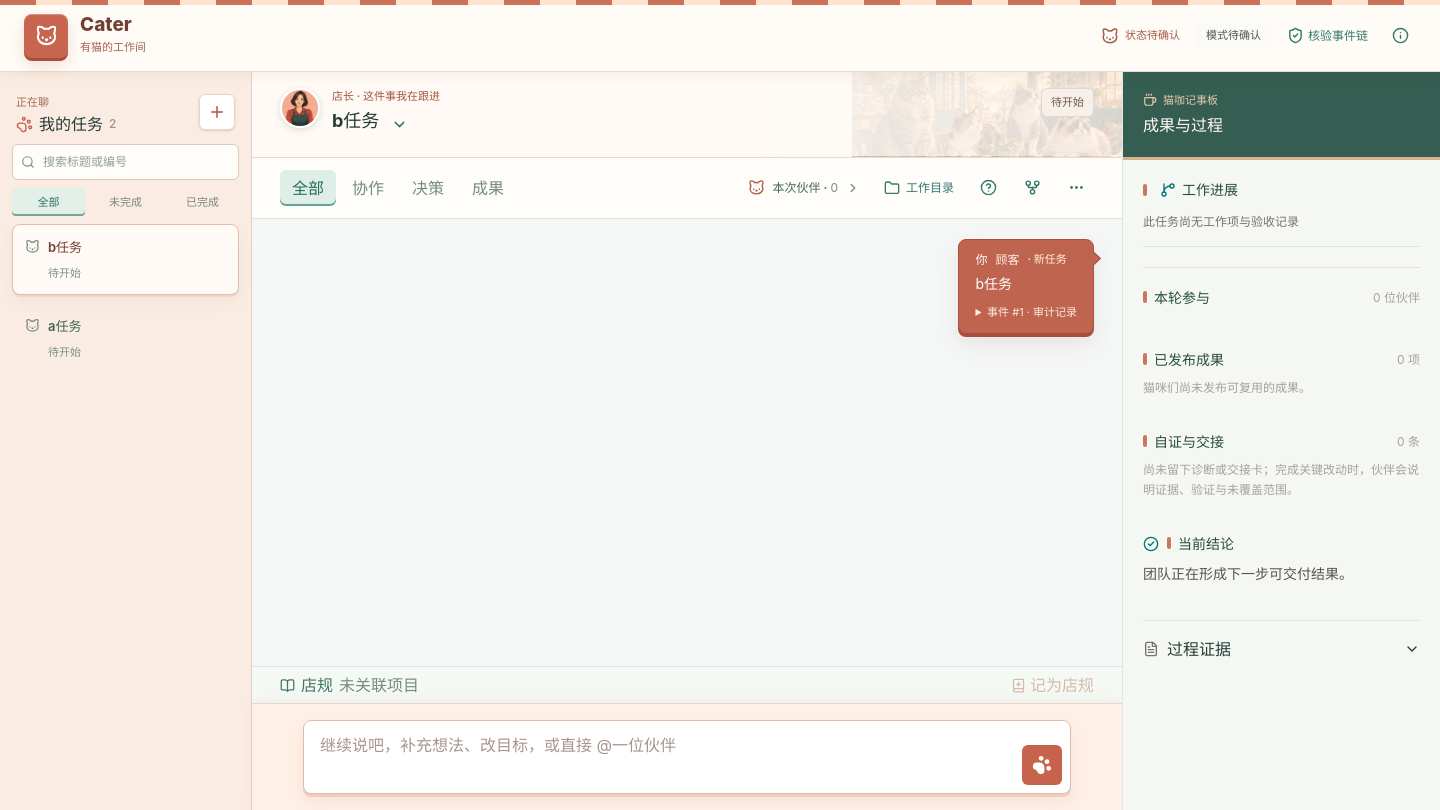
Scenario: 服务端已新建但返回500时保留原请求，手动重试取得同一任务且不自动重发
Click the button named "新建任务" at (217, 112), box x1=199 y1=94 x2=235 y2=130
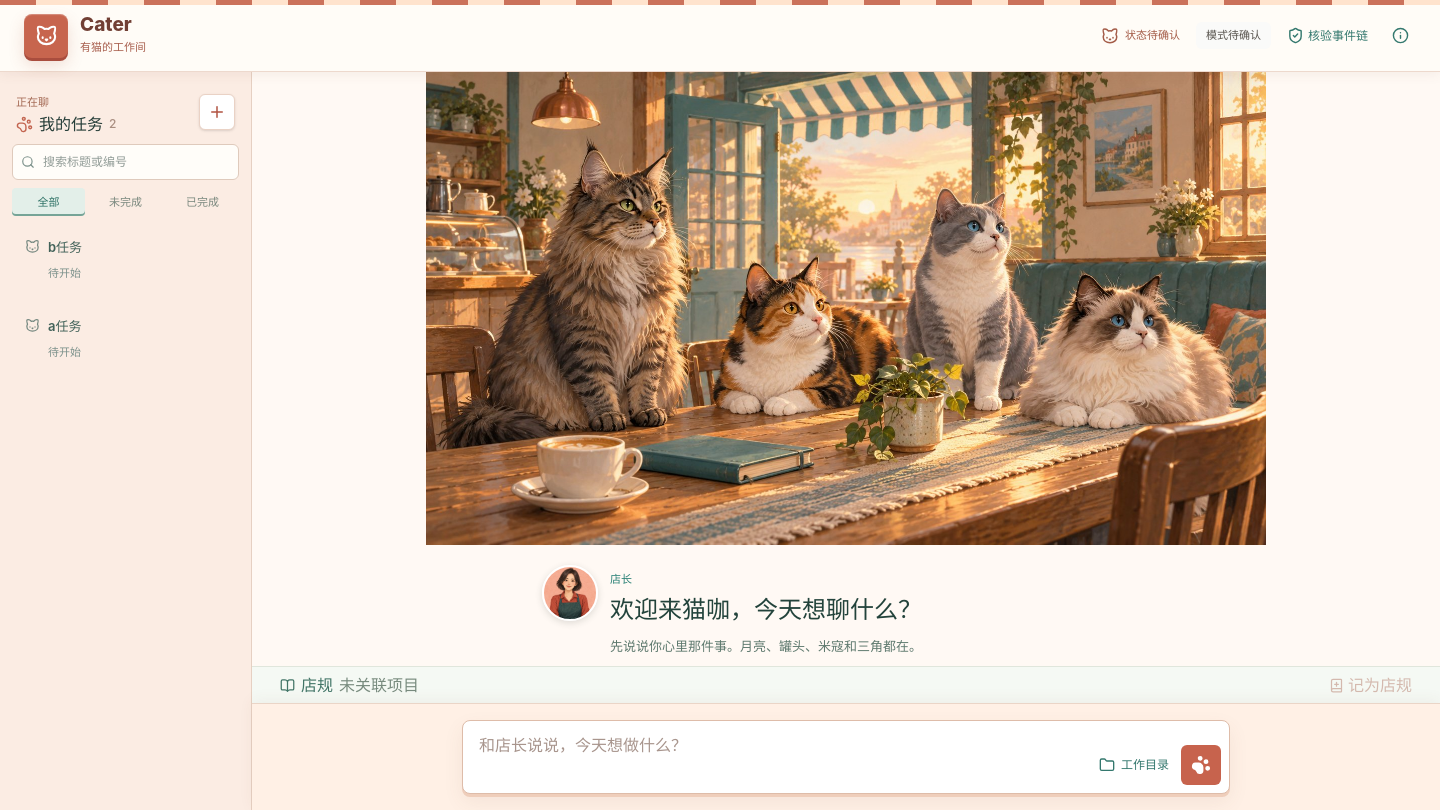
Type "可能已经创建的任务" into the text box named "发起任务对话" at (777, 757), box x1=471 y1=729 x2=1083 y2=785
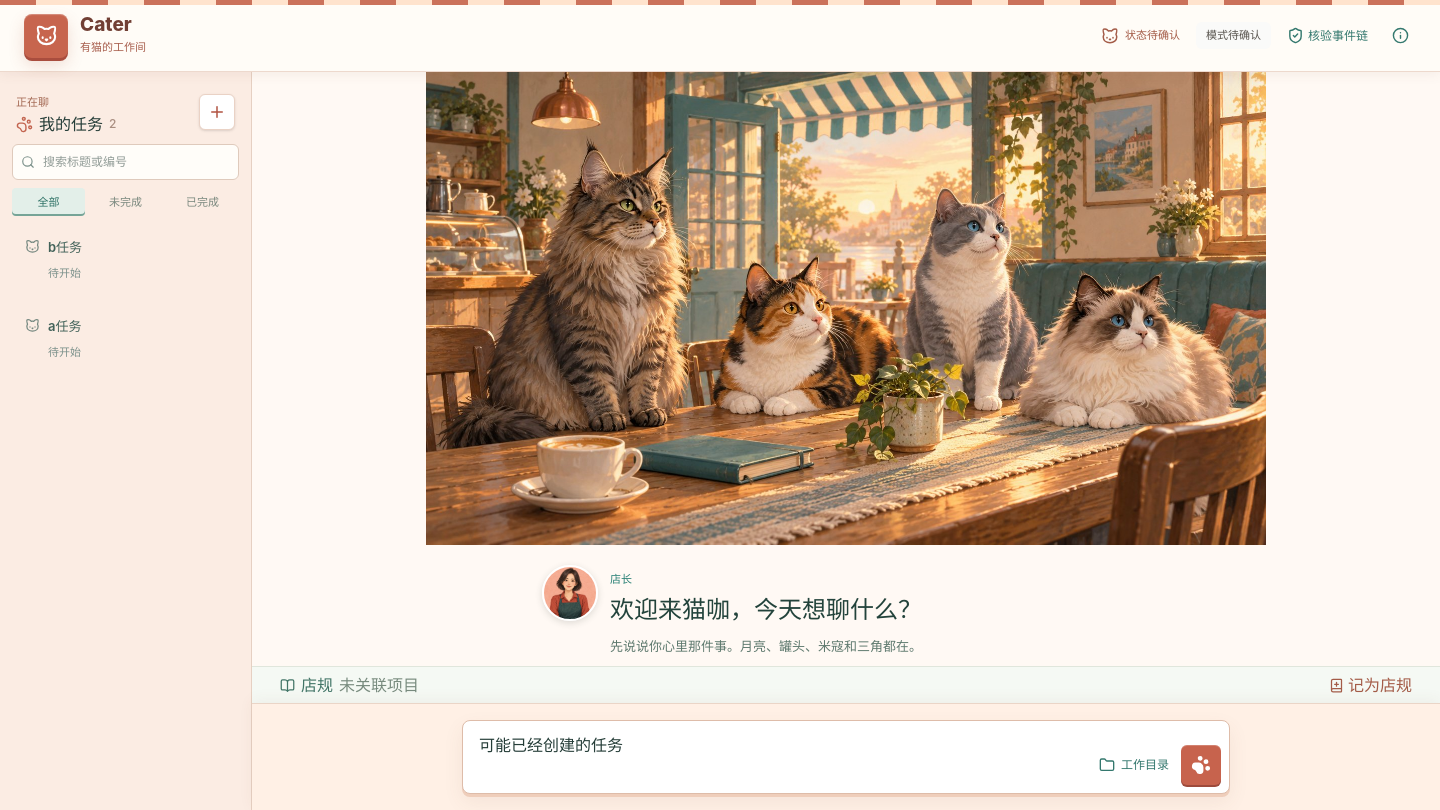
Click the button named "发送新任务" at (1201, 765), box x1=1181 y1=745 x2=1221 y2=785
Wait 30000 ms
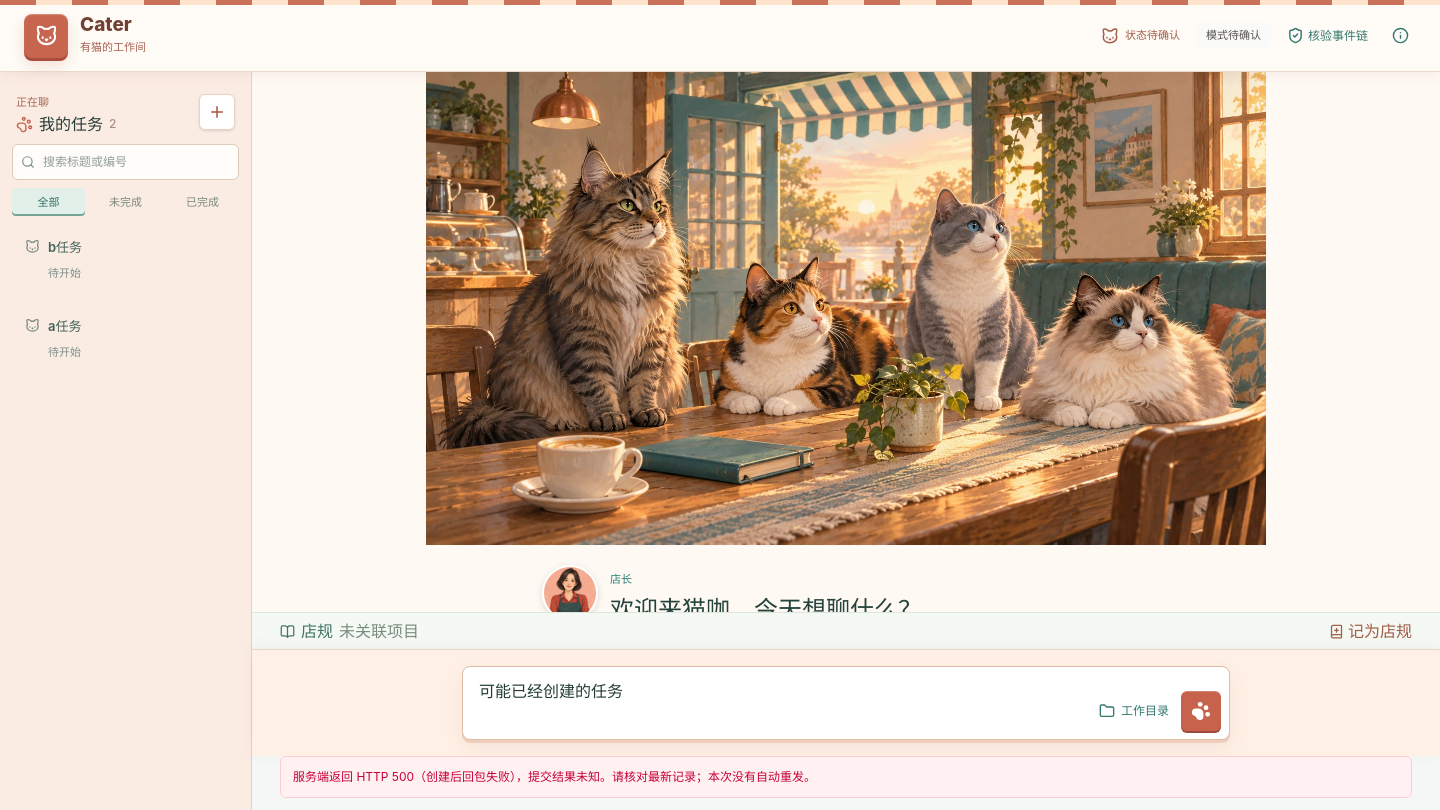
Result: the message shows "提交结果未知" at x1=293 y1=769 x2=816 y2=784
Click the button named "发送新任务" at (1201, 711), box x1=1181 y1=691 x2=1221 y2=731
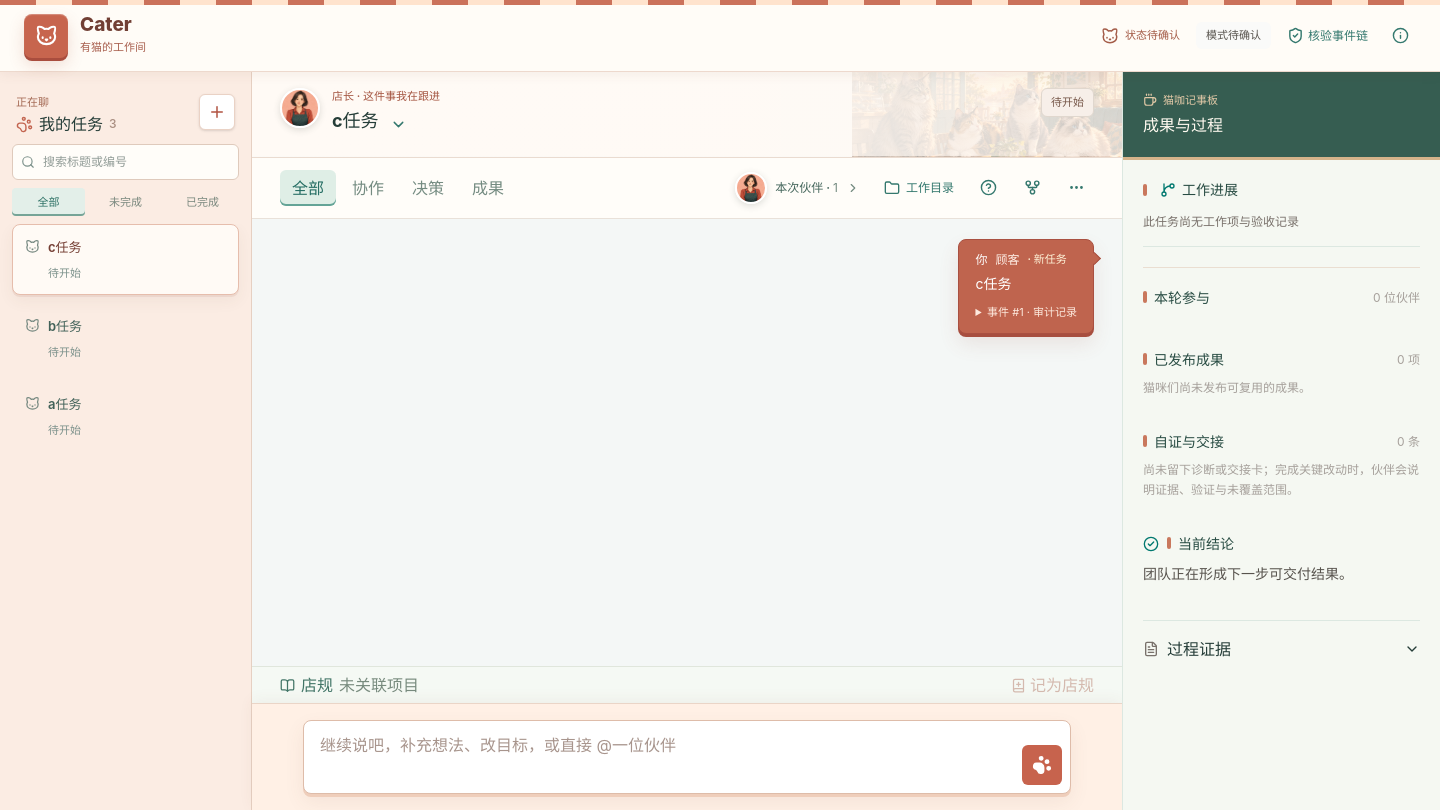
Result: the heading "c任务" is shown at x1=332 y1=108 x2=379 y2=133
